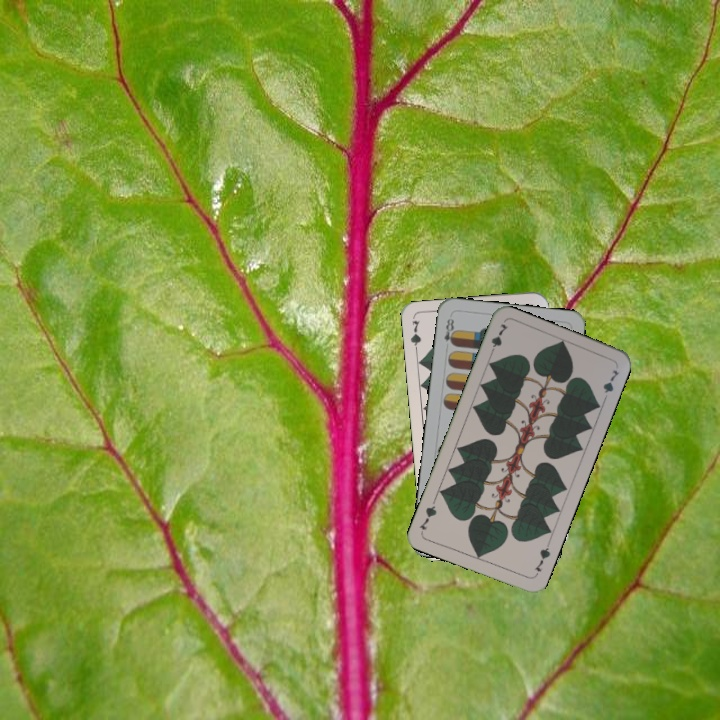E8: (440, 314, 458, 348)
G7: (486, 319, 511, 359), (530, 539, 553, 578), (406, 316, 424, 357)
